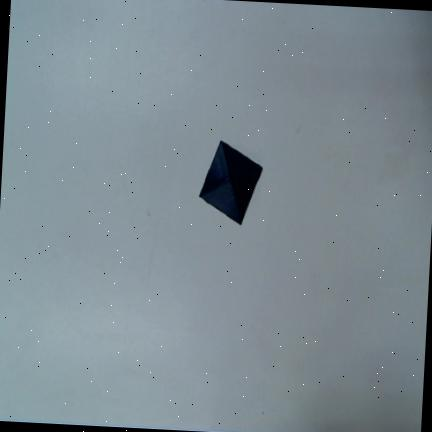Piramide: (199, 141, 264, 226)
